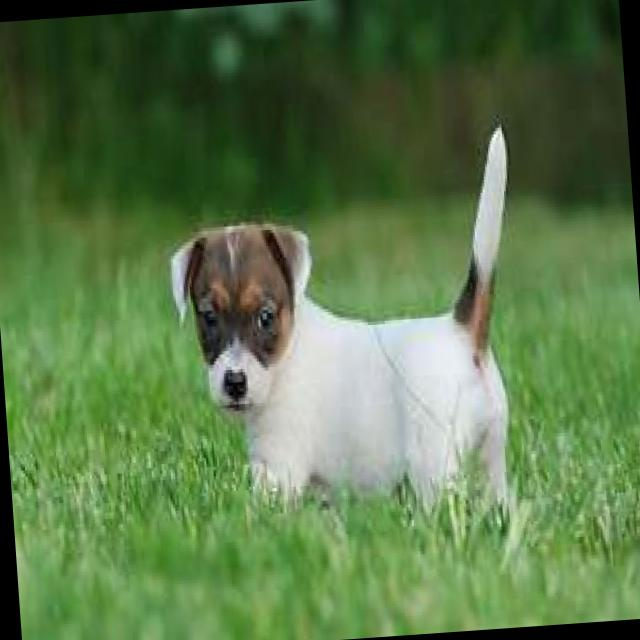animal: (162, 120, 535, 548)
